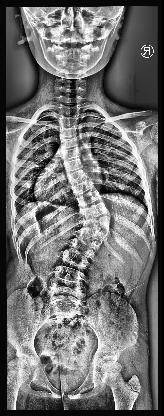Vertebrae: (51, 265, 89, 281), (58, 252, 92, 268), (46, 282, 84, 296), (82, 215, 112, 231), (82, 202, 110, 218), (63, 243, 97, 255), (75, 228, 108, 240), (69, 237, 101, 249), (76, 190, 102, 204), (70, 181, 94, 193), (60, 146, 80, 160), (58, 104, 80, 116), (63, 160, 85, 172), (66, 170, 88, 182), (59, 115, 79, 128), (58, 125, 78, 137), (59, 136, 79, 148)
